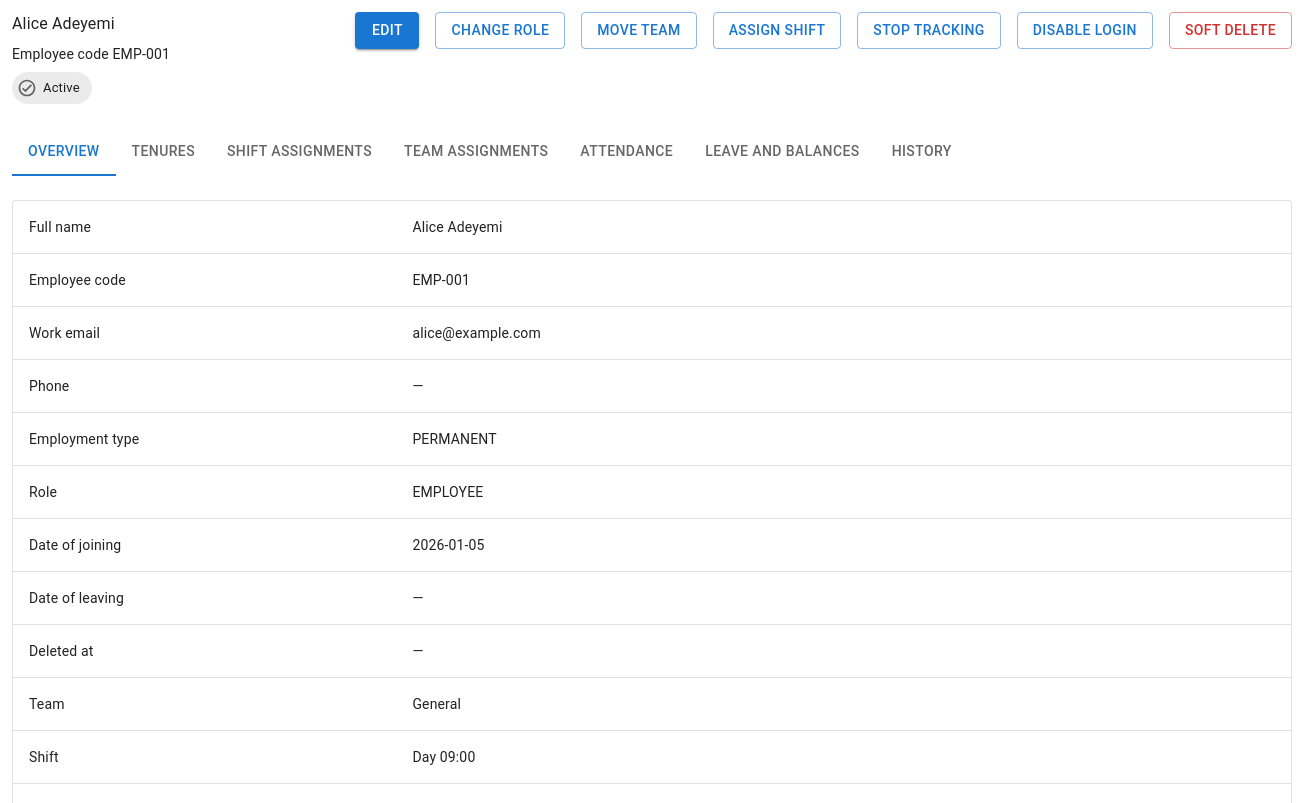
Test case: UserDetail › lists this user’s recent days, each linking to that day’s detail
The image size is (1304, 803).
What coordinates should you click on to do the following:
click the tab "Attendance"
I would click on:
 (627, 152)
Its box is [564,128,689,176].
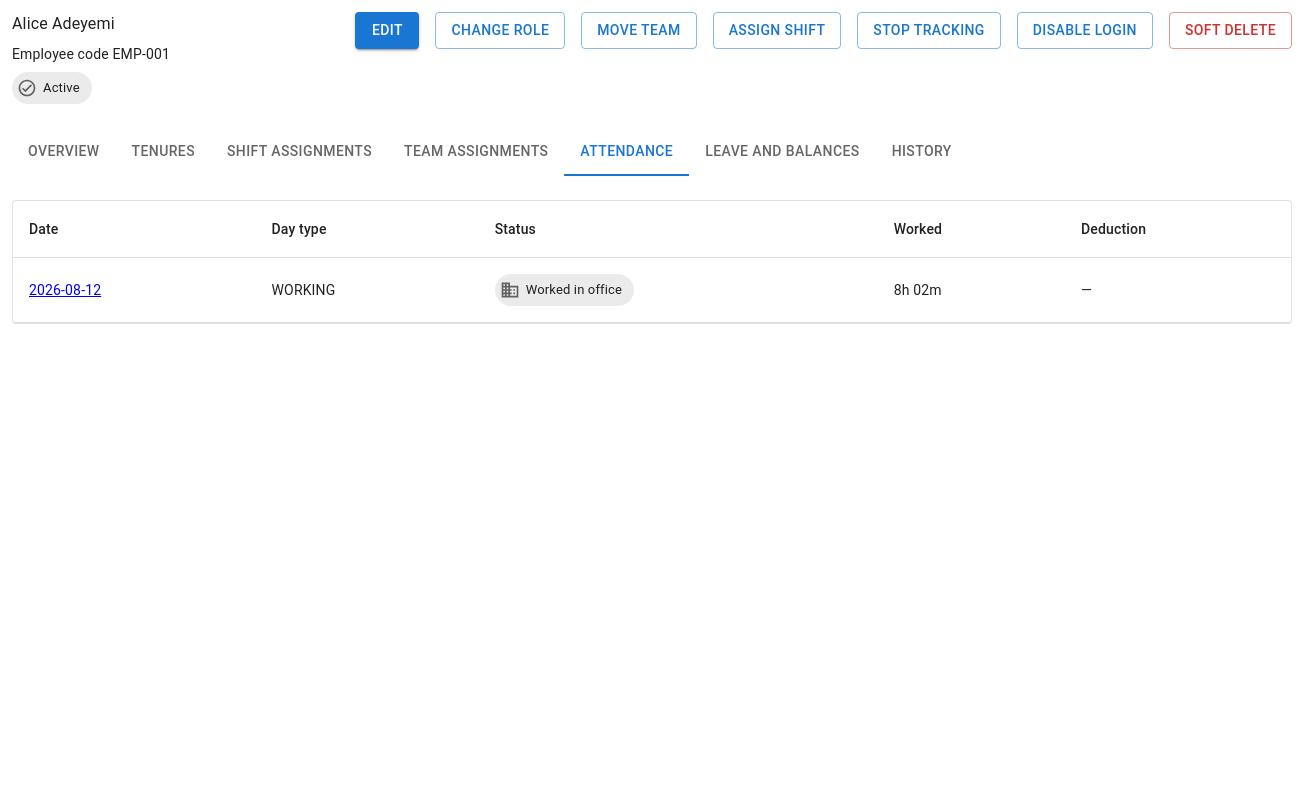
Expected: the text "8h 02m" is shown, [894,282,942,298]
